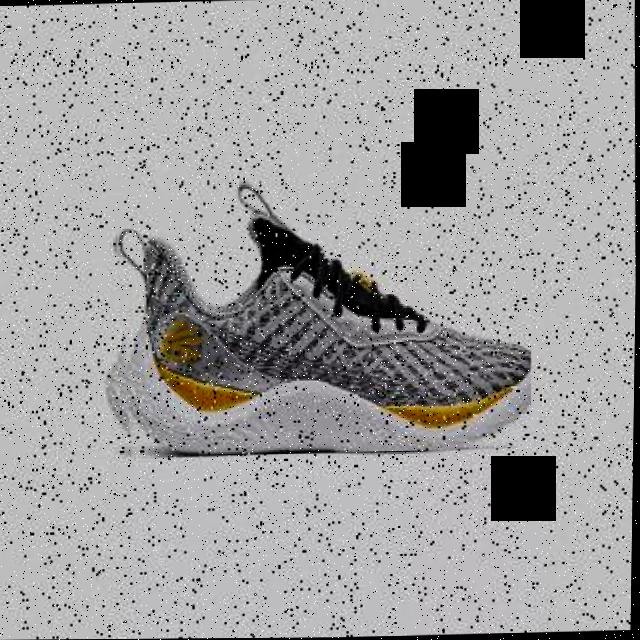shoe: (107, 172, 535, 458)
